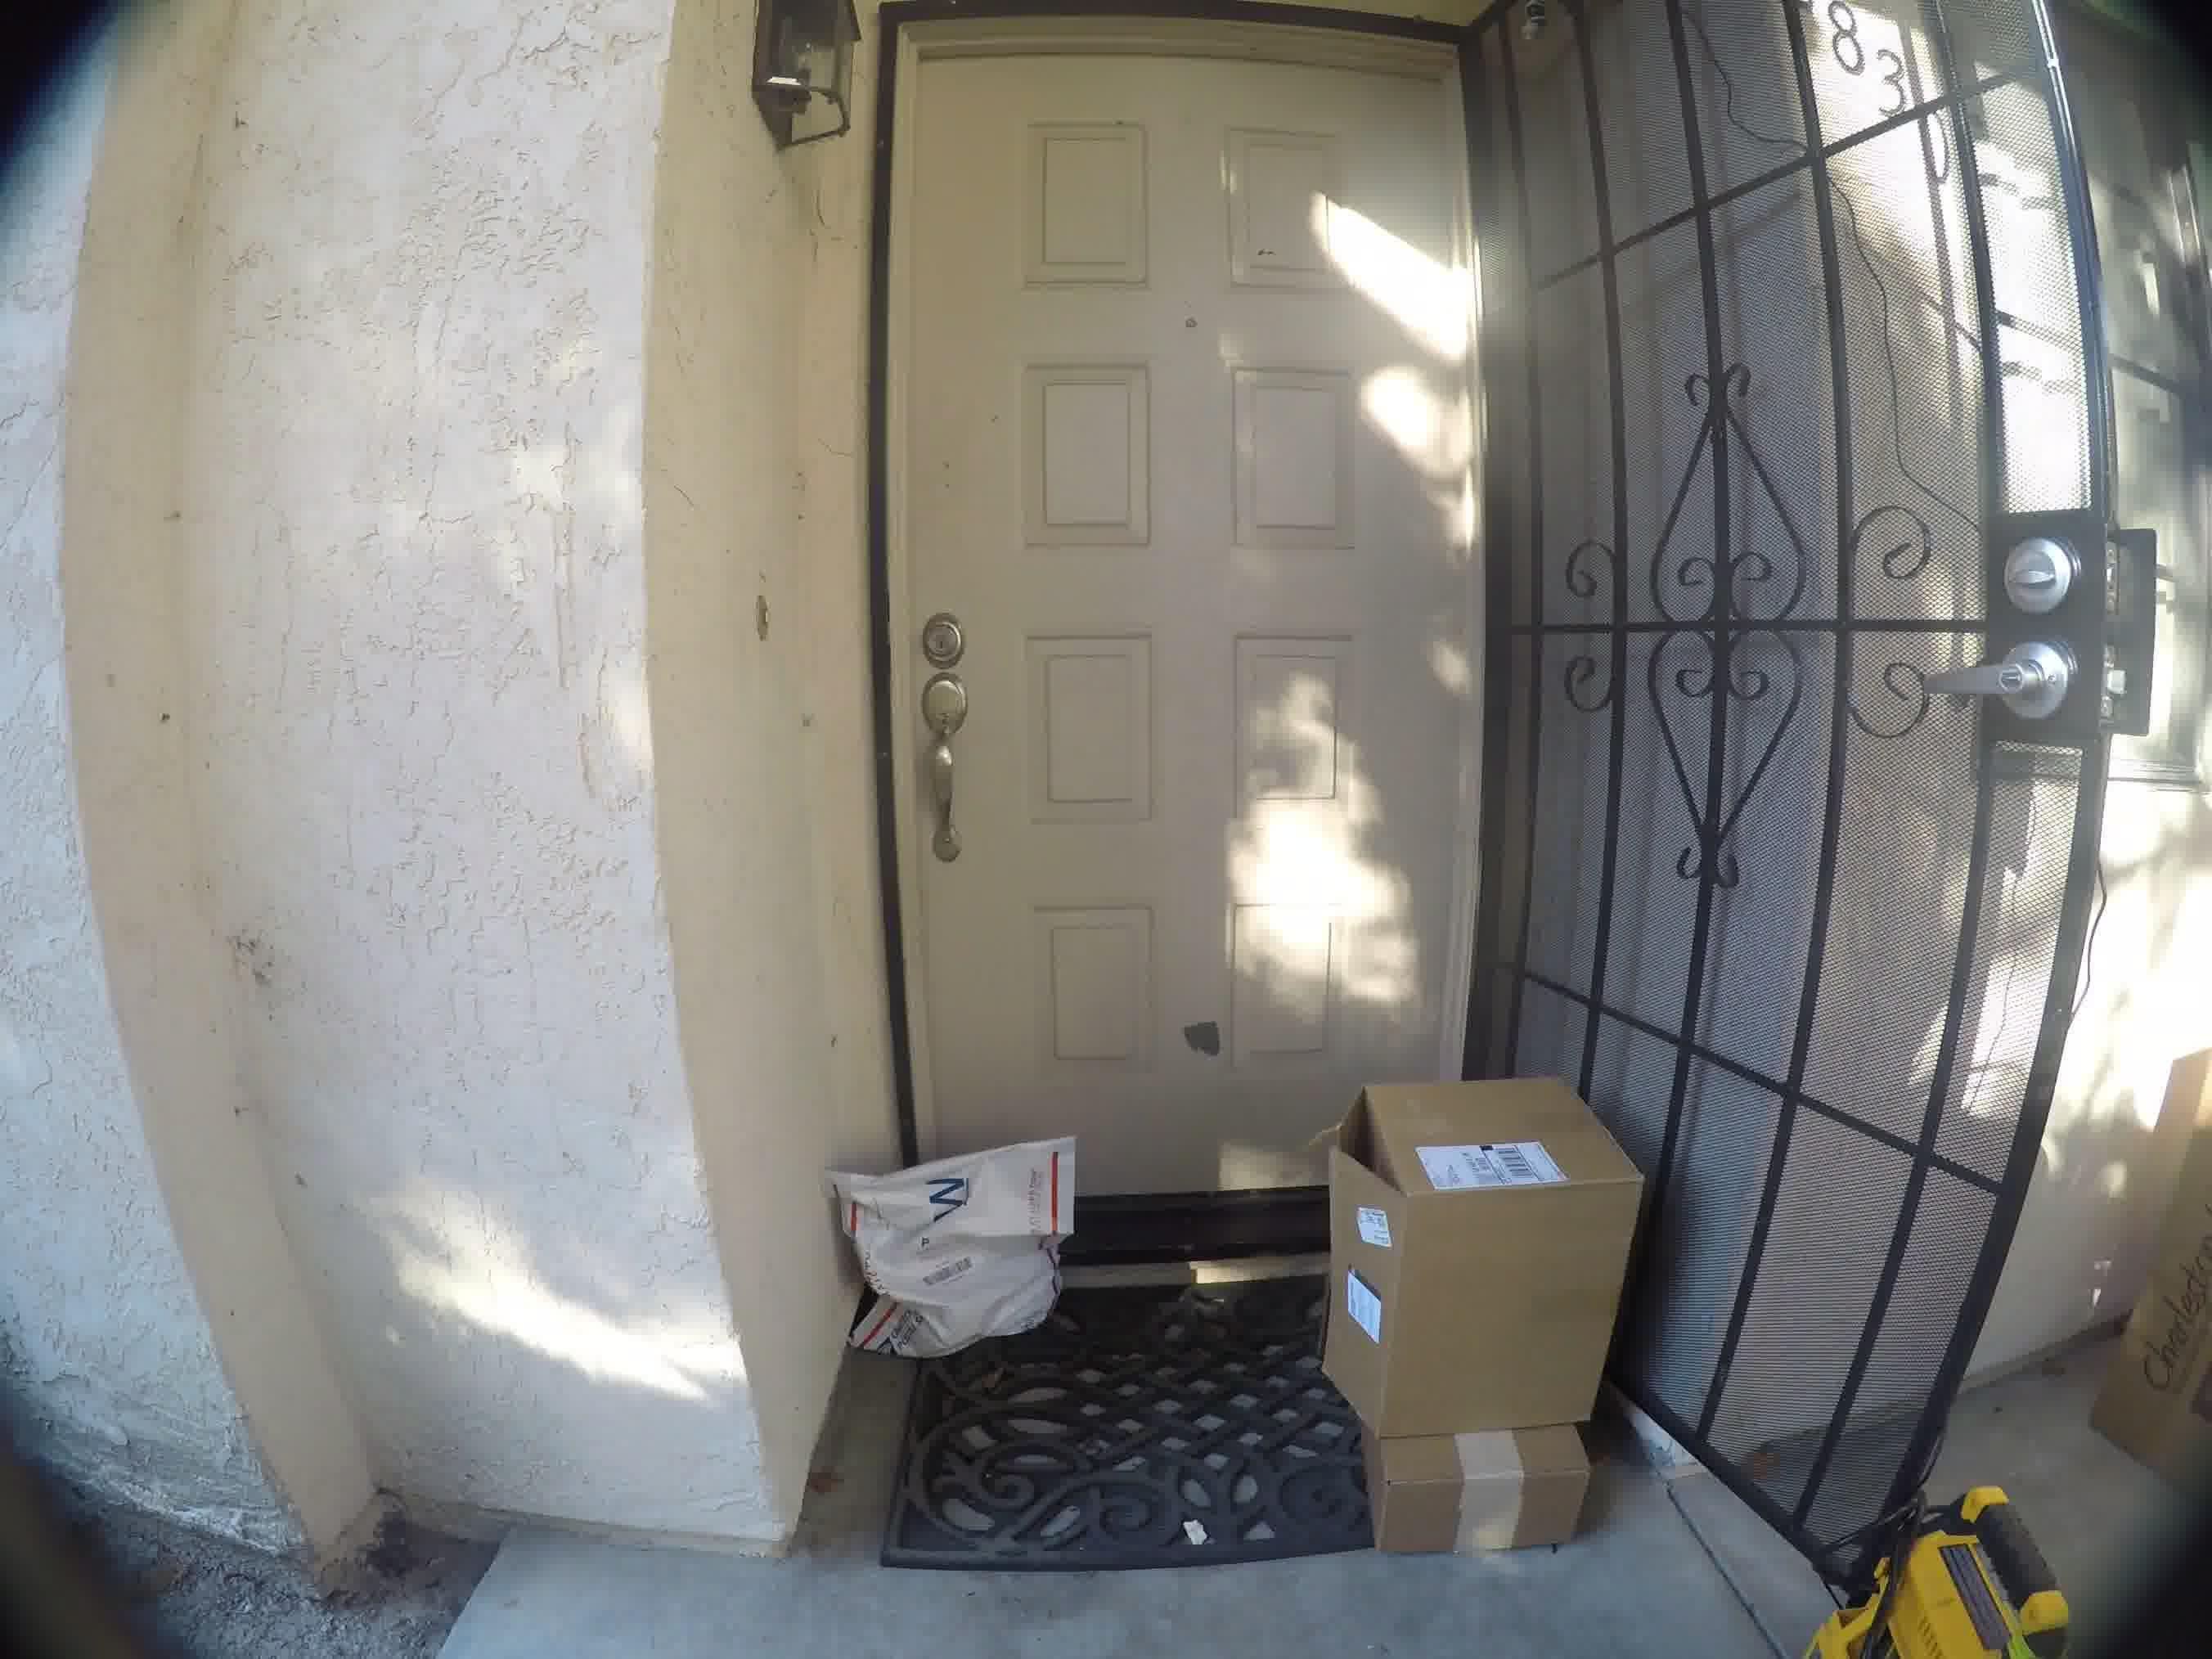box: (1305, 1068, 1639, 1425), (1360, 1425, 1622, 1549)
plastic_bag: (831, 1136, 1092, 1380)
